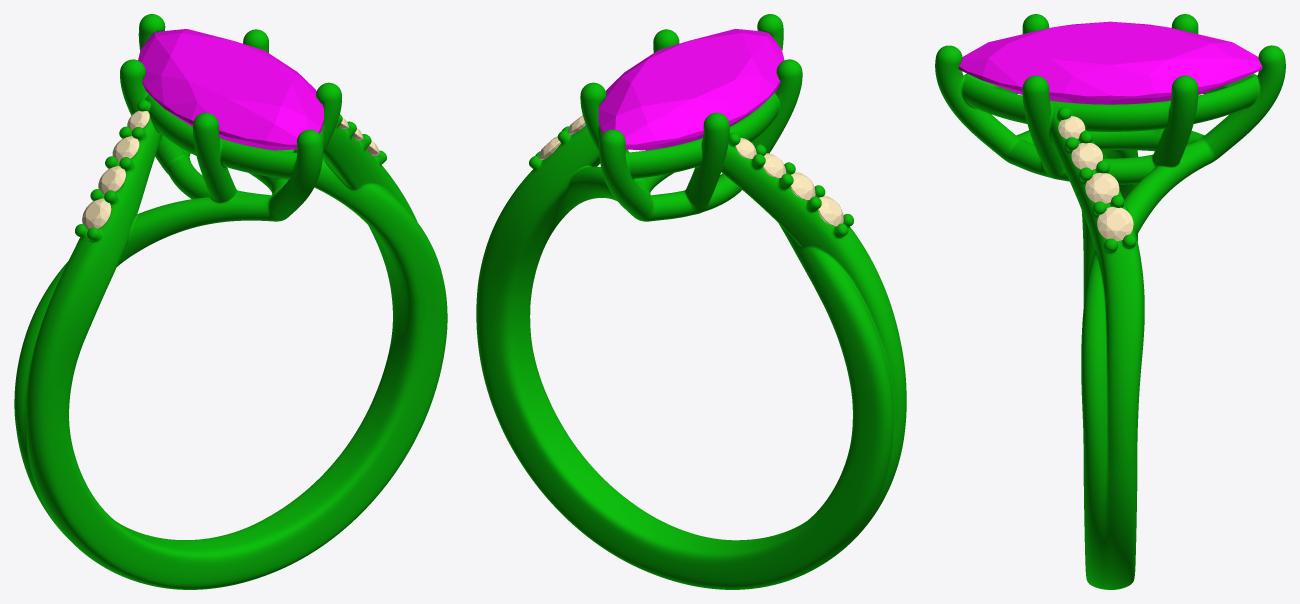
Rendered from BE1AS8PD08_MQ_200ct_RENDER.glb.
3 renders of one model, left to right at view 1: azimuth 30°, elevation 25°; view 2: azimuth 150°, elevation 25°; view 3: azimuth 270°, elevation 25°, orthographic. The views are drawn at different scales.
Parts seen in each view (by area): view 1: Metal 01, CS_Diamond_Marquise, Diamond_Round_Gem_SH.003, Diamond_Round_Gem_SH.002; view 2: Metal 01, CS_Diamond_Marquise, Diamond_Round_Gem_SH.003; view 3: Metal 01, CS_Diamond_Marquise, Diamond_Round_Gem_SH.004, Diamond_Round_Gem_SH.005, Diamond_Round_Gem_SH.006, Diamond_Round_Gem_SH.007.
Boxes of the visible parts, x1,y1,x2,y2 form: Metal 01: [14, 14, 447, 589]; CS_Diamond_Marquise: [138, 29, 323, 150]; Diamond_Round_Gem_SH.003: [82, 198, 111, 229]; Diamond_Round_Gem_SH.002: [98, 166, 125, 194]; Metal 01: [476, 14, 906, 589]; CS_Diamond_Marquise: [598, 29, 784, 150]; Diamond_Round_Gem_SH.003: [818, 195, 843, 226]; Metal 01: [935, 14, 1285, 589]; CS_Diamond_Marquise: [958, 21, 1262, 104]; Diamond_Round_Gem_SH.004: [1097, 206, 1133, 241]; Diamond_Round_Gem_SH.005: [1085, 173, 1119, 203]; Diamond_Round_Gem_SH.006: [1071, 142, 1102, 170]; Diamond_Round_Gem_SH.007: [1058, 116, 1084, 139].
Size of the model in its own units: 20.26 by 23.83 by 14.47.
